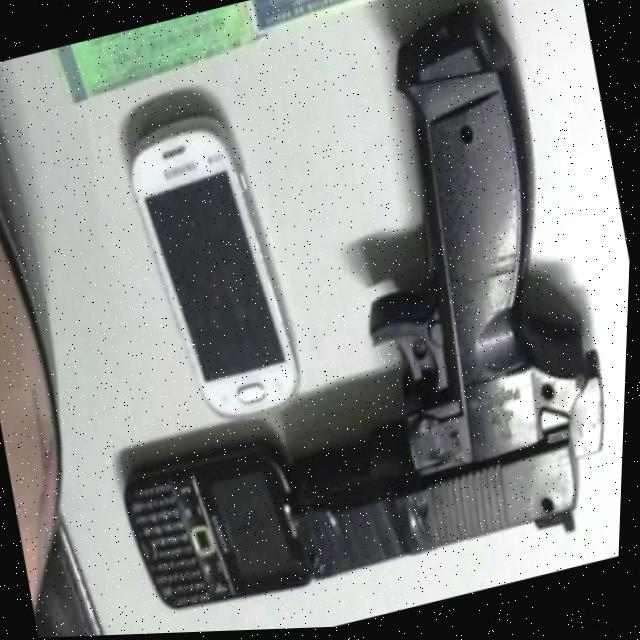pistol: (191, 0, 640, 600)
